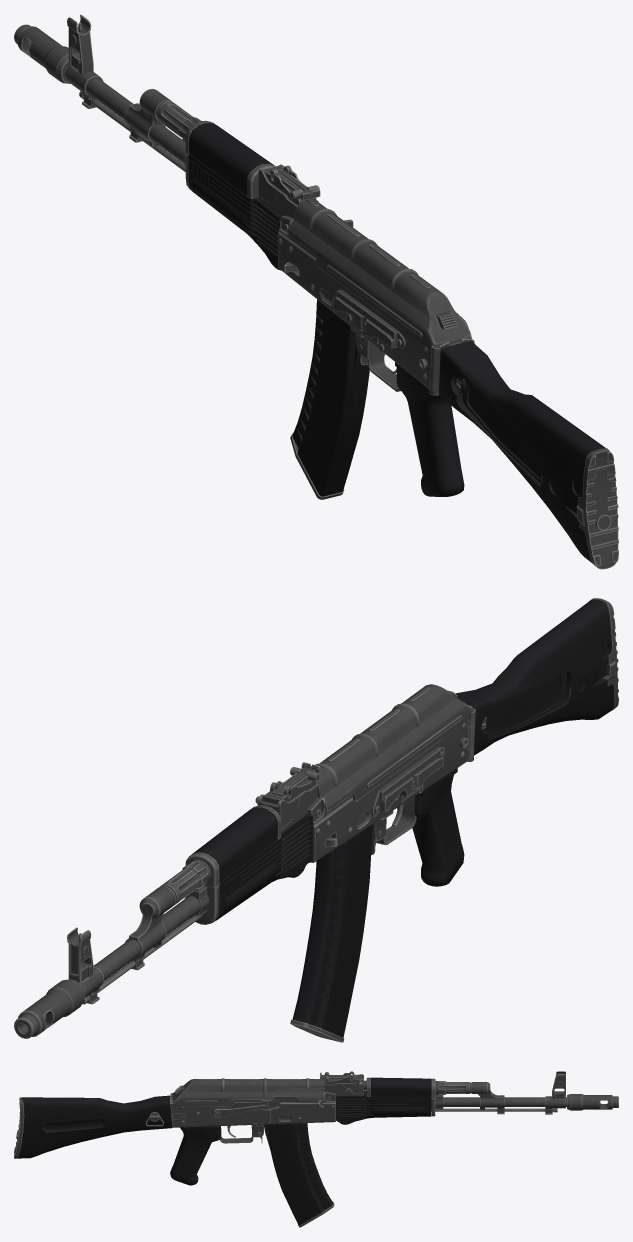
3 views of the same model, one above another, from view 1: azimuth 30°, elevation 25°; view 2: azimuth 150°, elevation 25°; view 3: azimuth 270°, elevation 25° (orthographic). The views are drawn at different scales.
Visible parts, largest first — view 1: Stock_low_0, Dust_cover_low_21, Magazine_low_16, Barrel_low_17, Grip_low_4, Receiver_low_3, Stock_plate_low_1, Handguard_low_14, Gas_block_low_18, Handguard_up_low_15, Dovetail_low_25, Rear_Sight_Block_low_10 (+1 smaller); view 2: Stock_low_0, Magazine_low_16, Dust_cover_low_21, Barrel_low_17, Receiver_low_3, Gas_block_low_18, Grip_low_4, Handguard_low_14, Handguard_up_low_15, Dovetail_low_25, Rear_Sight_Block_low_10, Trigger_guard_low_7 (+2 smaller); view 3: Stock_low_0, Magazine_low_16, Receiver_low_3, Dust_cover_low_21, Barrel_low_17, Handguard_low_14, Grip_low_4, Gas_block_low_18, Handguard_up_low_15, Fire_Selector_low_22, Bolt_low_9, Rear_Sight_Block_low_10 (+3 smaller).
Part boxes in pixels (bbox=[...]): Stock_low_0: bbox=[430, 341, 605, 563]; Dust_cover_low_21: bbox=[287, 199, 471, 350]; Magazine_low_16: bbox=[290, 299, 369, 499]; Barrel_low_17: bbox=[14, 14, 185, 165]; Grip_low_4: bbox=[395, 362, 464, 496]; Receiver_low_3: bbox=[278, 231, 474, 395]; Stock_plate_low_1: bbox=[576, 448, 618, 569]; Handguard_low_14: bbox=[188, 154, 281, 270]; Gas_block_low_18: bbox=[124, 89, 275, 198]; Handguard_up_low_15: bbox=[189, 123, 274, 195]; Dovetail_low_25: bbox=[332, 289, 405, 348]; Rear_Sight_Block_low_10: bbox=[258, 164, 318, 217]; Stock_low_0: bbox=[455, 599, 614, 755]; Magazine_low_16: bbox=[290, 824, 372, 1042]; Dust_cover_low_21: bbox=[315, 684, 471, 811]; Barrel_low_17: bbox=[14, 886, 209, 1038]; Receiver_low_3: bbox=[311, 705, 475, 862]; Gas_block_low_18: bbox=[125, 805, 281, 970]; Grip_low_4: bbox=[397, 768, 464, 886]; Handguard_low_14: bbox=[216, 814, 312, 920]; Handguard_up_low_15: bbox=[192, 807, 277, 882]; Dovetail_low_25: bbox=[371, 747, 444, 816]; Rear_Sight_Block_low_10: bbox=[258, 779, 318, 832]; Trigger_guard_low_7: bbox=[373, 796, 416, 845]; Stock_low_0: bbox=[18, 1095, 172, 1158]; Magazine_low_16: bbox=[263, 1123, 334, 1227]; Receiver_low_3: bbox=[170, 1093, 335, 1127]; Dust_cover_low_21: bbox=[173, 1078, 324, 1106]; Barrel_low_17: bbox=[431, 1071, 618, 1114]; Handguard_low_14: bbox=[336, 1090, 431, 1124]; Grip_low_4: bbox=[170, 1126, 221, 1185]; Gas_block_low_18: bbox=[364, 1077, 504, 1116]; Handguard_up_low_15: bbox=[370, 1077, 431, 1096]; Fire_Selector_low_22: bbox=[210, 1100, 279, 1119]; Bolt_low_9: bbox=[274, 1089, 324, 1108]; Rear_Sight_Block_low_10: bbox=[324, 1071, 363, 1095].
Size of the model in its own units: 0.0624 by 0.2621 by 0.943.
Materials: 1 (1 with a texture image).
